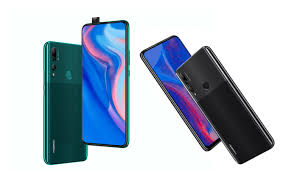huawei: (43, 37, 89, 166)
